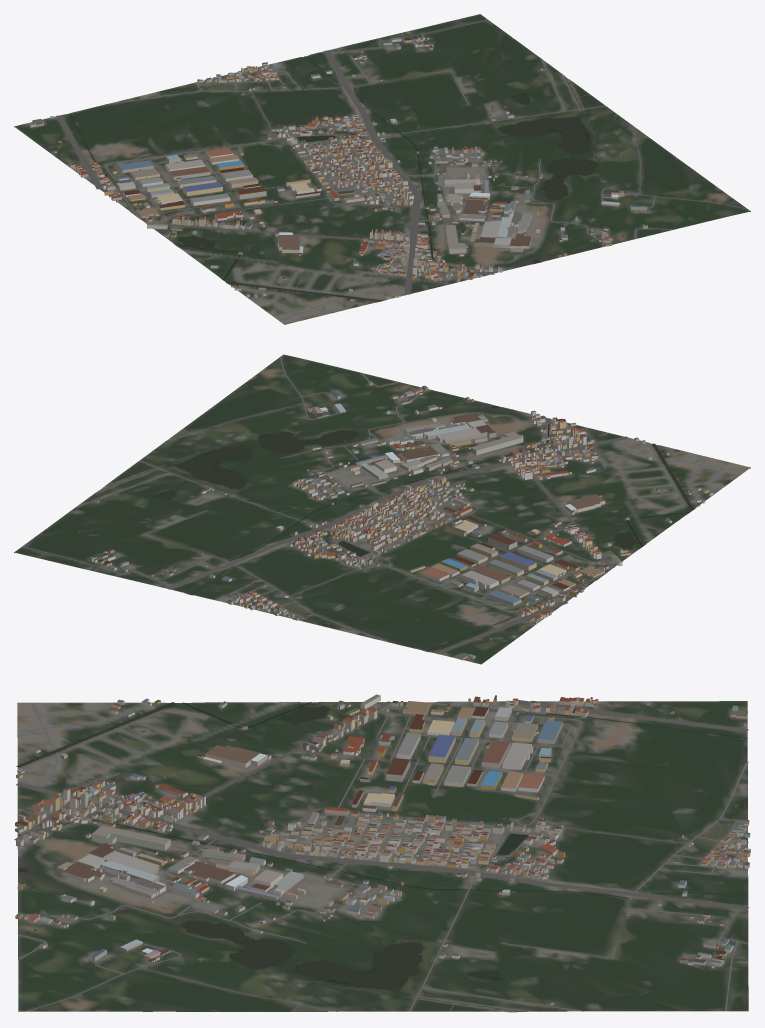
3 renders of one model, top to bottom at view 1: azimuth 30°, elevation 25°; view 2: azimuth 150°, elevation 25°; view 3: azimuth 270°, elevation 25°, orthographic. The views are drawn at different scales.
Visible parts, largest first — view 1: ground, buildings, roads, water; view 2: ground, buildings, roads, water; view 3: ground, buildings, roads, water.
Part boxes in pixels (<box>): ground: <box>14,14,750,324</box>; buildings: <box>29,34,647,301</box>; roads: <box>25,20,747,321</box>; water: <box>69,56,623,301</box>; ground: <box>14,354,750,664</box>; buildings: <box>91,381,713,660</box>; roads: <box>22,356,745,661</box>; water: <box>97,388,694,651</box>; ground: <box>17,701,748,1012</box>; buildings: <box>15,694,750,1004</box>; roads: <box>14,700,748,1011</box>; water: <box>16,702,748,1011</box>.
Size of the model in its own units: 1414 by 33.84 by 1415.
